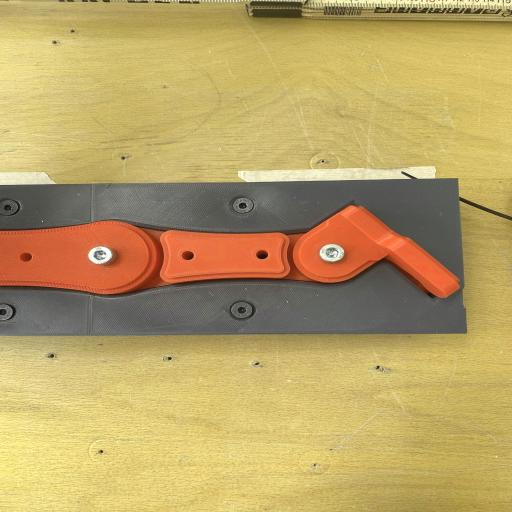Hex-Allen: (217, 190, 265, 221), (79, 241, 123, 273), (314, 242, 358, 266), (227, 299, 263, 327), (0, 197, 23, 223), (0, 302, 21, 323)
